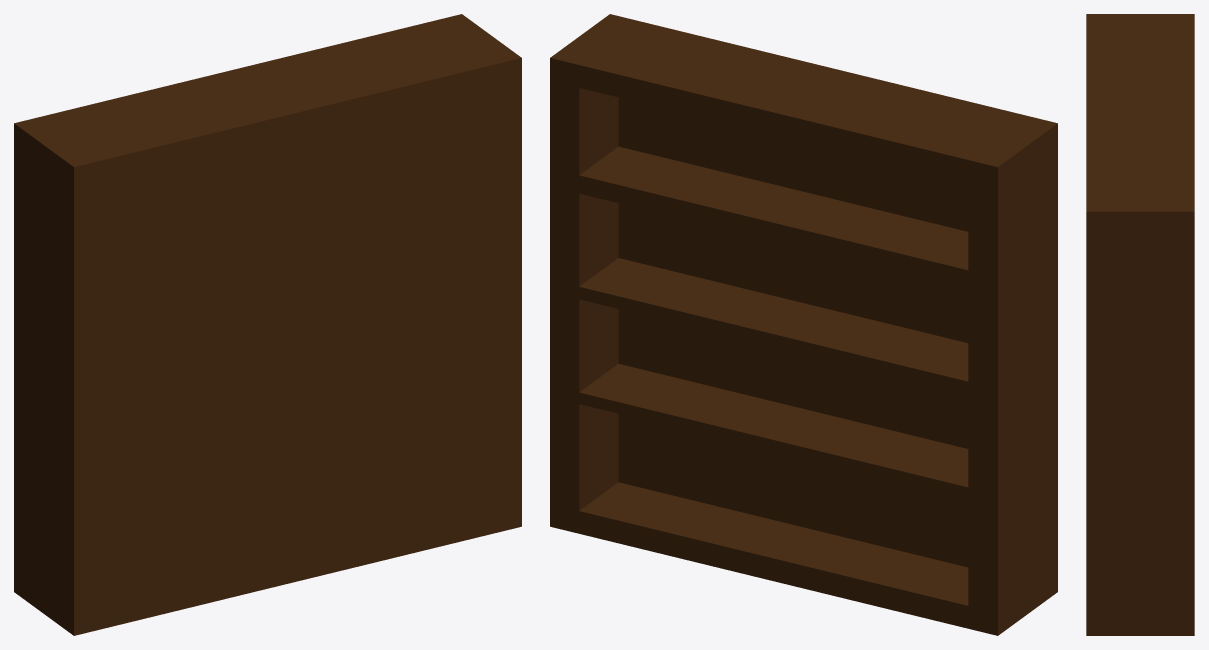
Rendered from Shelf.fbx.
3 renders of one model, left to right at view 1: azimuth 30°, elevation 25°; view 2: azimuth 150°, elevation 25°; view 3: azimuth 270°, elevation 25°, orthographic. The views are drawn at different scales.
Visible parts, largest first — view 1: Shelf; view 2: Shelf; view 3: Shelf.
Boxes of the visible parts, x1,y1,x2,y2 form: Shelf: (14, 14, 521, 635); Shelf: (550, 14, 1057, 635); Shelf: (1086, 14, 1194, 635).
Bounding box in the file's own units: 5.16 × 5.16 × 1.2.
